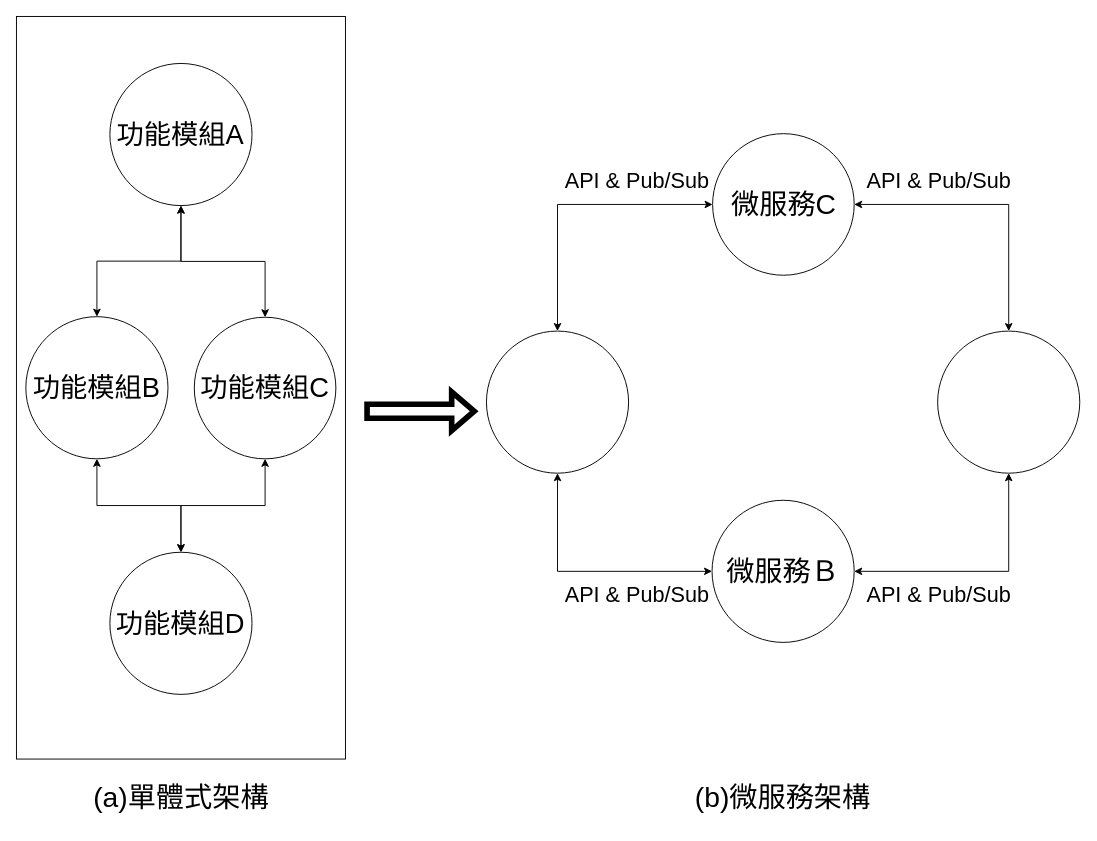
Some shapes in this 1097 by 841 pixel diagram are drawn without their labels. The centre of each missing label's shape, as x and y in pixels:
"微服務D" goes at [1008,401].
"微服務Ａ" goes at [557,401].
